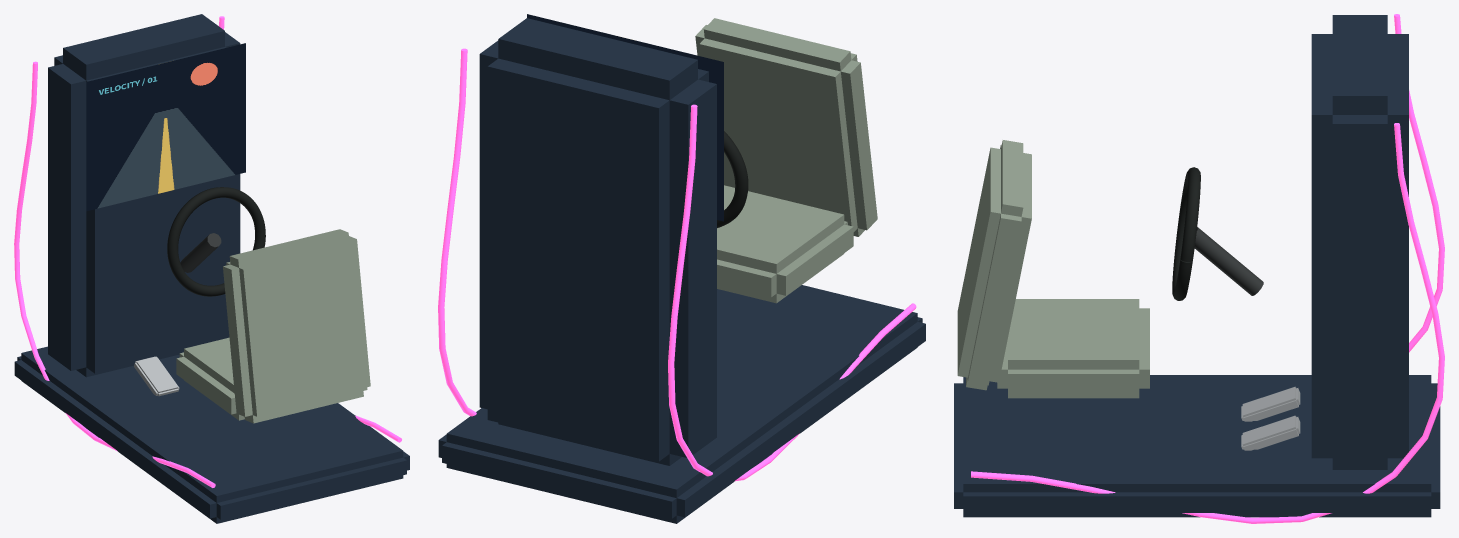
Rendered from fixture_v25_racing_cockpit.glb.
3 renders of one model, left to right at view 1: azimuth 30°, elevation 25°; view 2: azimuth 150°, elevation 25°; view 3: azimuth 270°, elevation 25°, orthographic. The views are drawn at different scales.
Parts seen in each view (by area): view 1: fixture_v25_racing_cockpit_V25_arcade_navy, fixture_v25_racing_cockpit_V25_woven_twill, fixture_v25_racing_cockpit_original-racing-screen, fixture_v25_racing_cockpit_V25_neon_pink, fixture_v25_racing_cockpit_Grip_rubber, fixture_v25_racing_cockpit_Brushed_stainless, fixture_v25_racing_cockpit_Anodised_graphite; view 2: fixture_v25_racing_cockpit_V25_arcade_navy, fixture_v25_racing_cockpit_V25_woven_twill, fixture_v25_racing_cockpit_V25_neon_pink, fixture_v25_racing_cockpit_original-racing-screen, fixture_v25_racing_cockpit_Grip_rubber; view 3: fixture_v25_racing_cockpit_V25_arcade_navy, fixture_v25_racing_cockpit_V25_woven_twill, fixture_v25_racing_cockpit_V25_neon_pink, fixture_v25_racing_cockpit_Brushed_stainless, fixture_v25_racing_cockpit_Grip_rubber, fixture_v25_racing_cockpit_Anodised_graphite.
Boxes of the visible parts, x1,y1,x2,y2 form: fixture_v25_racing_cockpit_V25_arcade_navy: (14,14,409,523); fixture_v25_racing_cockpit_V25_woven_twill: (176,229,370,423); fixture_v25_racing_cockpit_original-racing-screen: (86,43,245,211); fixture_v25_racing_cockpit_V25_neon_pink: (14,16,401,487); fixture_v25_racing_cockpit_Grip_rubber: (167,187,265,296); fixture_v25_racing_cockpit_Brushed_stainless: (134,356,179,396); fixture_v25_racing_cockpit_Anodised_graphite: (180,233,221,272); fixture_v25_racing_cockpit_V25_arcade_navy: (438,18,925,523); fixture_v25_racing_cockpit_V25_woven_twill: (695,18,877,303); fixture_v25_racing_cockpit_V25_neon_pink: (438,48,916,481); fixture_v25_racing_cockpit_original-racing-screen: (527,14,723,221); fixture_v25_racing_cockpit_Grip_rubber: (717,131,748,227); fixture_v25_racing_cockpit_V25_arcade_navy: (954,15,1440,517); fixture_v25_racing_cockpit_V25_woven_twill: (957,140,1149,398); fixture_v25_racing_cockpit_V25_neon_pink: (971,14,1444,523); fixture_v25_racing_cockpit_Brushed_stainless: (1241,386,1300,450); fixture_v25_racing_cockpit_Grip_rubber: (1172,167,1200,300); fixture_v25_racing_cockpit_Anodised_graphite: (1194,227,1263,295).
Bounding box in the file's own units: 1.05 × 1.74 × 1.87.
7 materials, 1 textured.
